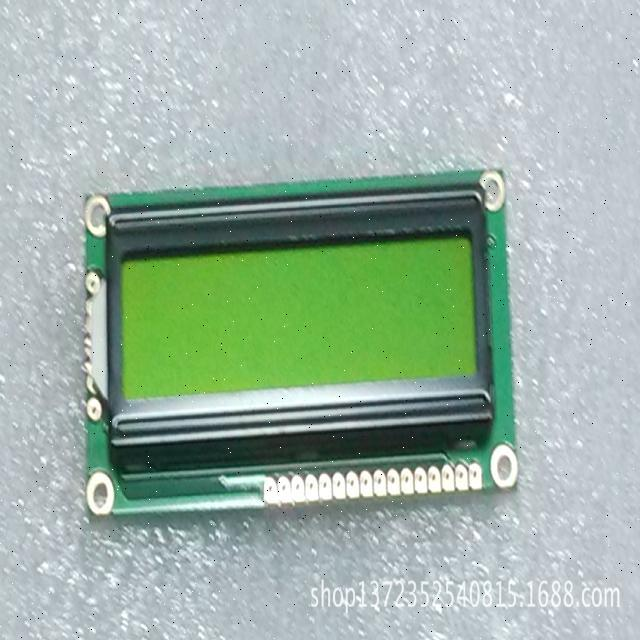lcd: (80, 166, 519, 516)
